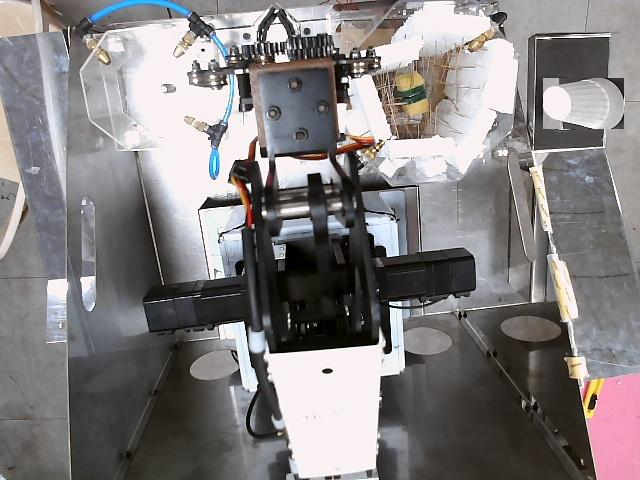cup: (543, 78, 624, 129)
